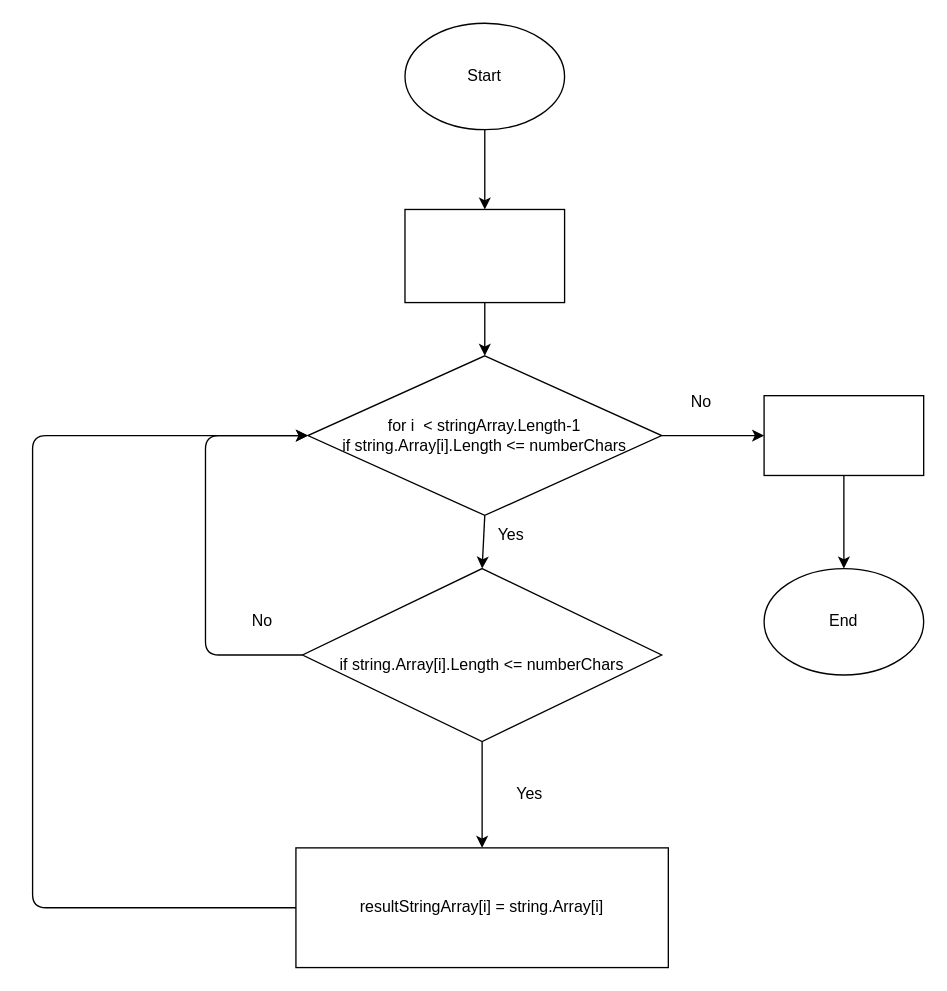
The diagram is 947 pixels wide and 991 high, and some of its shapes have lost their labels. Here are the shapes that lost their labels. From the top down, the centre of each, then its label:
At pixel 484 255: "string[] stringArray int numberChars string [] resultStringArray".
At pixel 843 434: "return resultStringArray".
